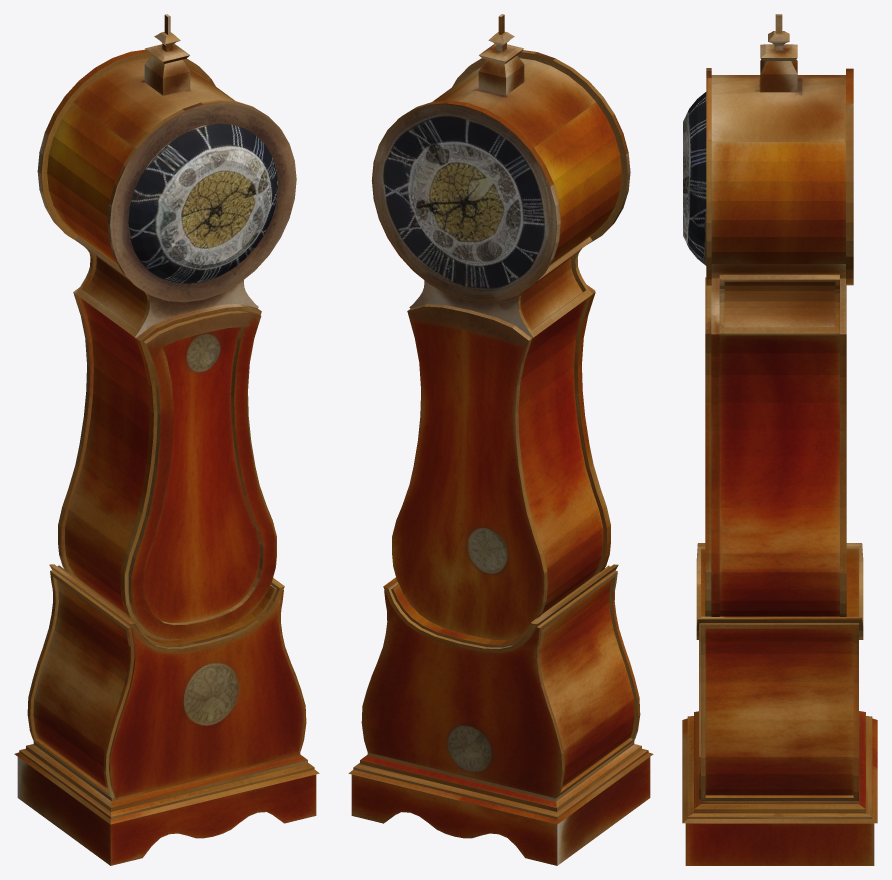
The picture shows the model from 3 angles, left to right: view 1: azimuth 30°, elevation 25°; view 2: azimuth 150°, elevation 25°; view 3: azimuth 270°, elevation 25°; orthographic projection.
Parts seen in each view (by area): view 1: mesh.011; view 2: mesh.011; view 3: mesh.011.
Boxes of the visible parts, bbox=[...] form: mesh.011: bbox=[14, 14, 319, 865]; mesh.011: bbox=[348, 14, 653, 865]; mesh.011: bbox=[682, 14, 877, 865].
Bounding box in the file's own units: 0.3048 × 1.1 × 0.2432.
Materials: 1 (1 with a texture image).
